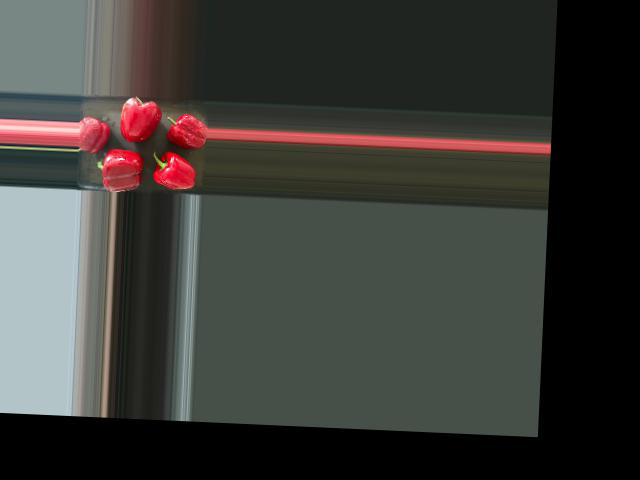bell_pepper: (78, 110, 112, 155)
